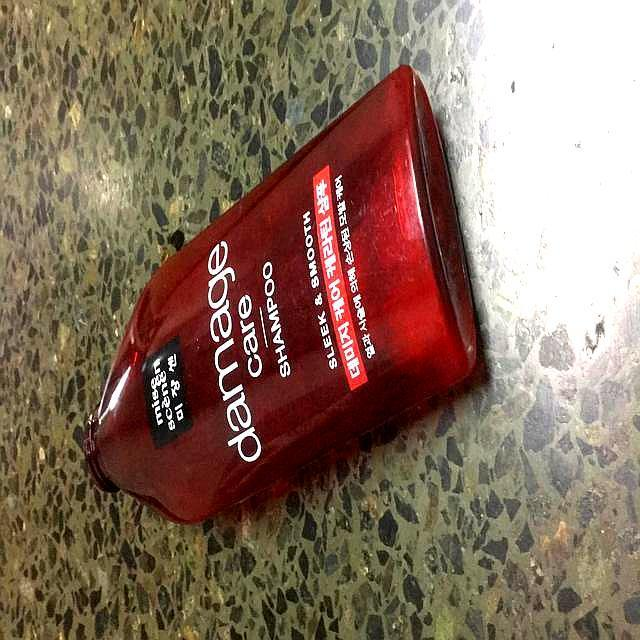Non-biodegradable: (81, 63, 486, 526)
